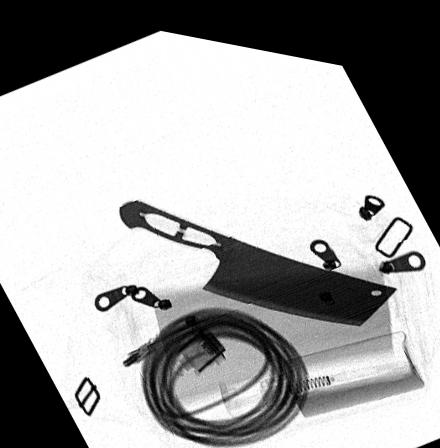Knife: (117, 193, 397, 312)
